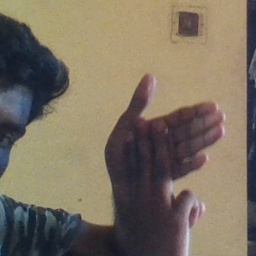M: (99, 72, 225, 223)
